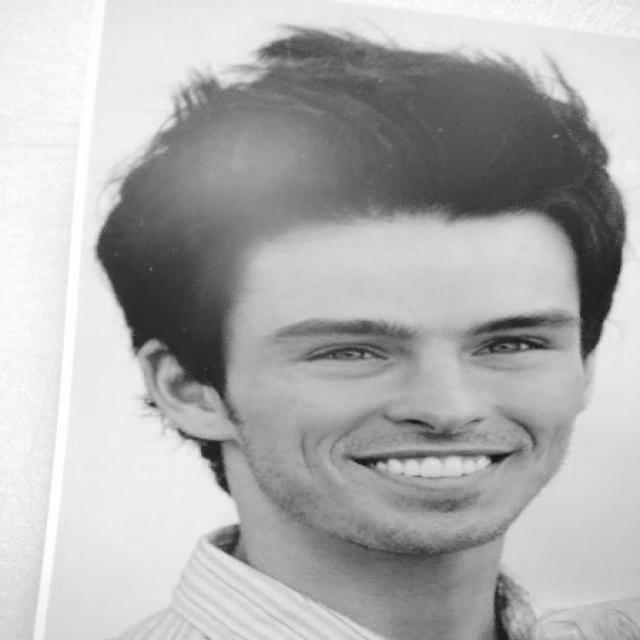fake: (43, 0, 640, 640)
